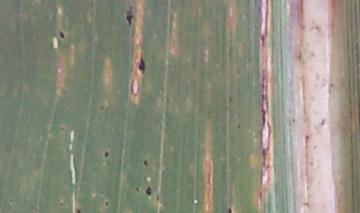tarspot: (134, 52, 150, 75), (122, 4, 135, 29), (144, 183, 155, 201), (55, 27, 67, 41), (139, 156, 151, 168), (96, 101, 108, 112), (101, 148, 111, 161), (56, 198, 67, 209), (72, 205, 86, 213), (57, 123, 67, 134), (224, 204, 236, 213), (101, 197, 111, 207), (234, 120, 243, 131), (133, 183, 142, 193), (7, 196, 17, 205)
